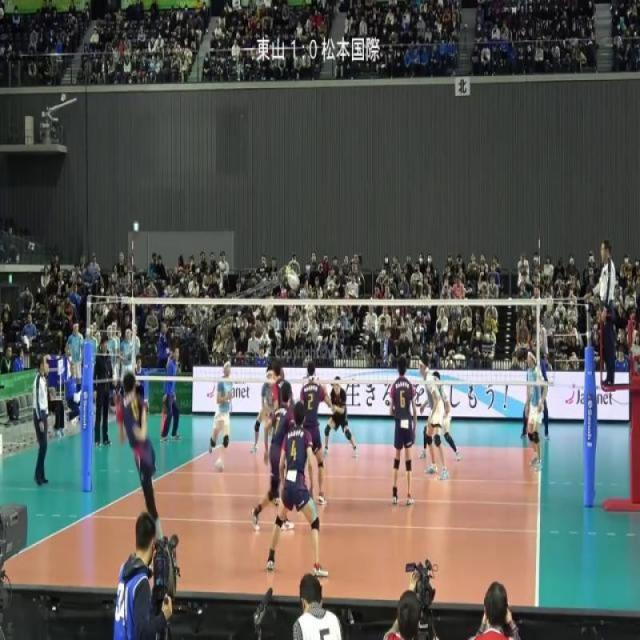volleyball: (287, 268, 300, 292)
